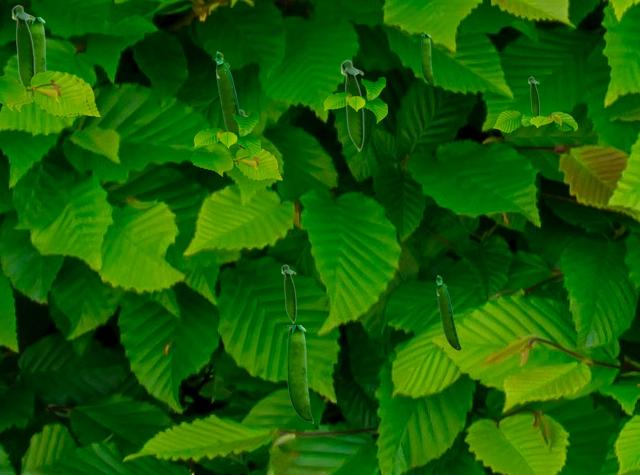pea: (215, 51, 243, 148), (287, 325, 312, 422), (340, 59, 363, 152), (11, 4, 34, 97), (436, 275, 460, 349), (27, 17, 46, 72), (281, 264, 295, 323), (421, 34, 433, 84), (240, 109, 248, 178), (528, 76, 538, 114)
